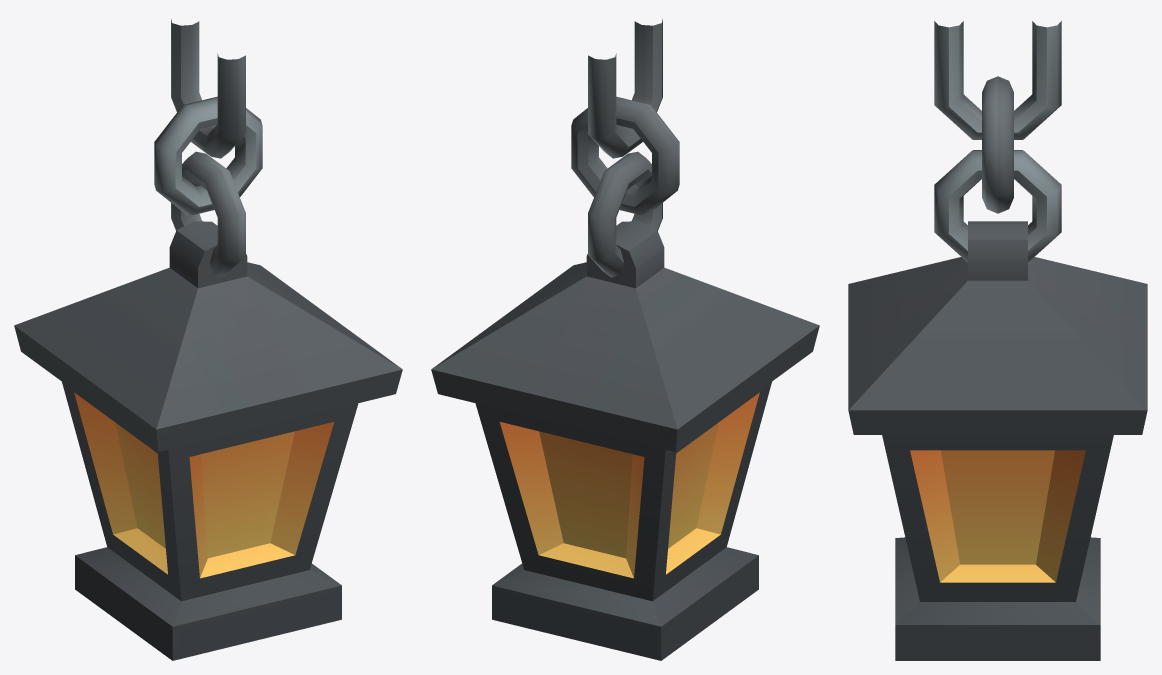
The model's file is lantern_hanging.glb.
The picture shows the model from 3 angles, left to right: view 1: azimuth 30°, elevation 25°; view 2: azimuth 150°, elevation 25°; view 3: azimuth 270°, elevation 25°; orthographic projection. The views are drawn at different scales.
Visible parts, largest first — view 1: lantern_hanging; view 2: lantern_hanging; view 3: lantern_hanging.
Boxes of the visible parts, left/top/right/bottom form: lantern_hanging: left=14, top=19, right=402, bottom=660; lantern_hanging: left=431, top=19, right=819, bottom=660; lantern_hanging: left=848, top=21, right=1147, bottom=660.
Size of the model in its own units: 0.64 by 1.41 by 0.64.
Materials: 1 (1 with a texture image).
